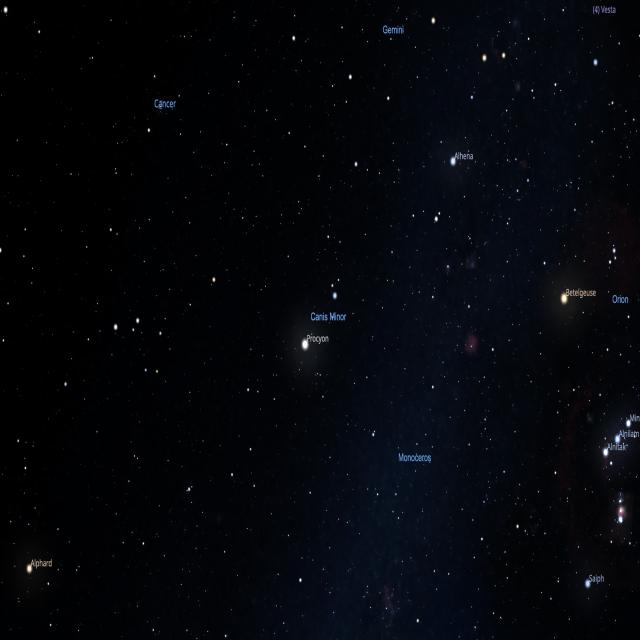Canis Minor: (301, 288, 348, 354)
